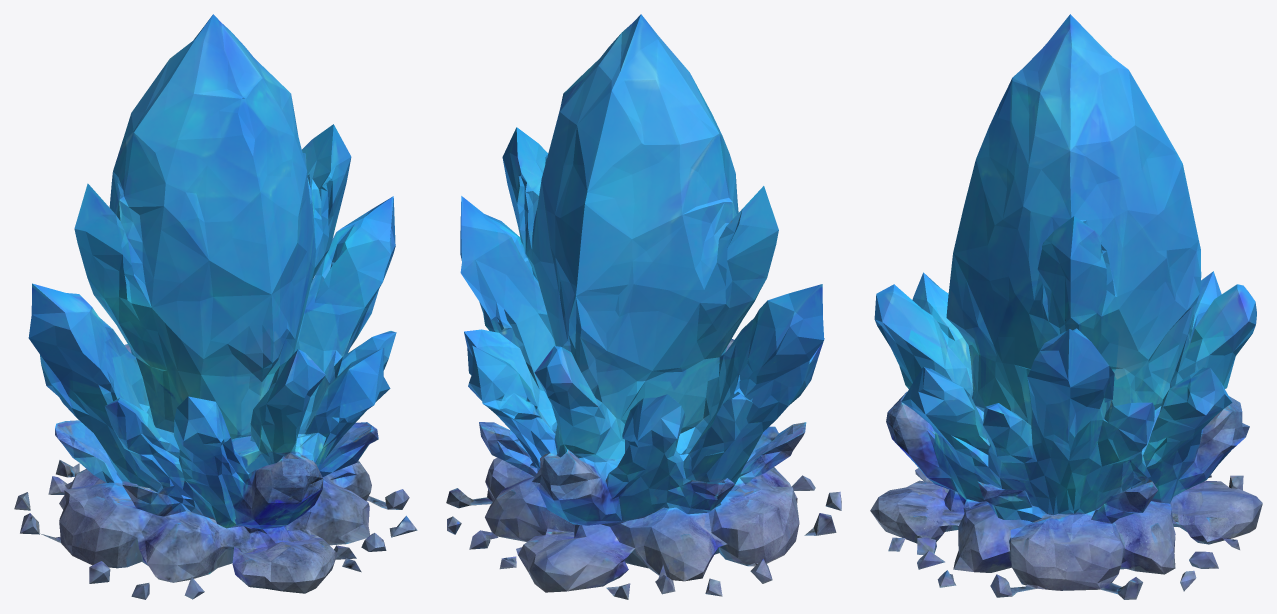
File: Blue_glowing_crystal__0515052952_texture.fbx
3 views of the same model, side by side, from view 1: azimuth 30°, elevation 25°; view 2: azimuth 150°, elevation 25°; view 3: azimuth 270°, elevation 25° (orthographic).
Visible parts, largest first — view 1: temp; view 2: temp; view 3: temp.
Boxes of the visible parts, x1,y1,x2,y2 form: temp: (14, 14, 417, 599); temp: (446, 14, 841, 599); temp: (870, 14, 1262, 599).
Bounding box in the file's own units: 74.32 × 100 × 68.93.
1 material, 1 textured.
